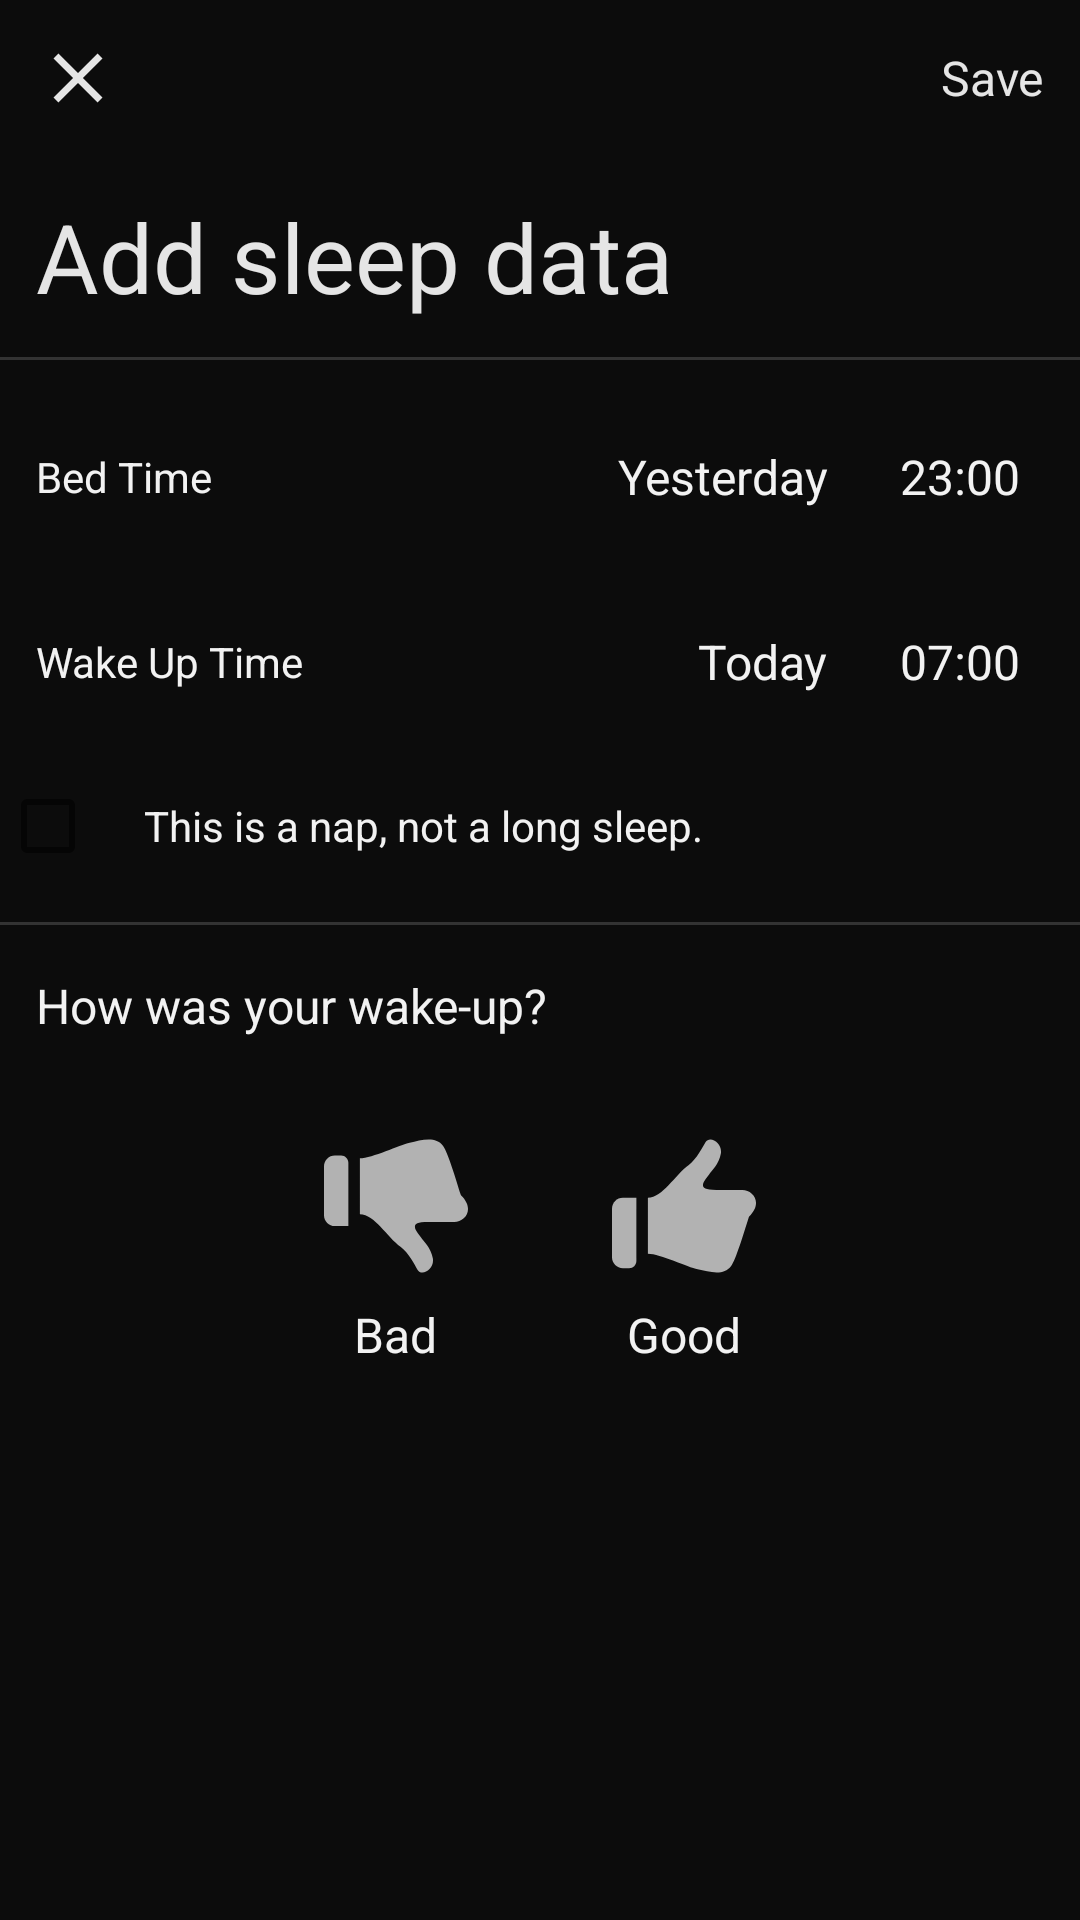

Named icons in this screenshot (1080px×1920px) and their bounding boxes, [x1=x1, y1=y1, x2=x2, y2=y2]:
close: [x1=53, y1=53, x2=103, y2=103]
